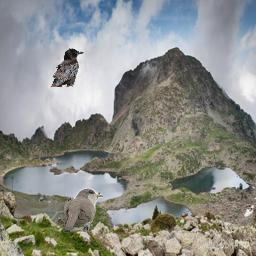Crow: (50, 48, 84, 87)
Cuckoo: (62, 188, 103, 233)
